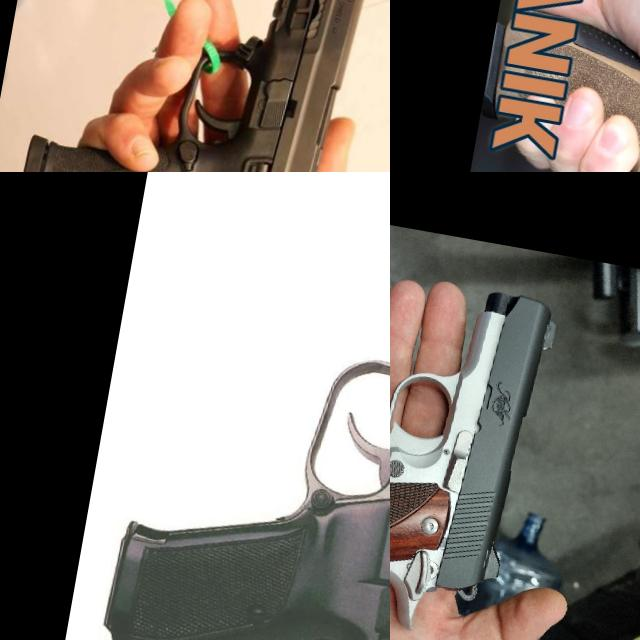handgun: (89, 192, 390, 640), (390, 243, 572, 640), (0, 0, 387, 172), (427, 0, 640, 172)
